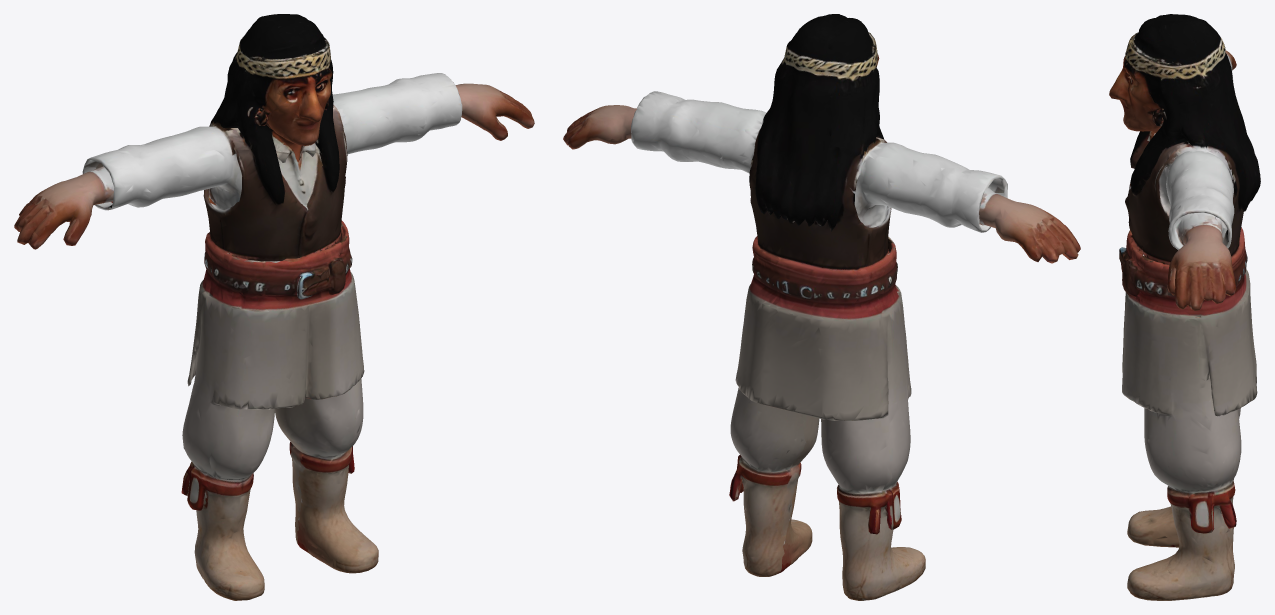
The model's file is painefil.glb.
3 renders of one model, left to right at view 1: azimuth 30°, elevation 25°; view 2: azimuth 150°, elevation 25°; view 3: azimuth 270°, elevation 25°, orthographic.
Visible parts, largest first — view 1: painefil; view 2: painefil; view 3: painefil.
Boxes of the visible parts, x1,y1,x2,y2 form: painefil: (14, 14, 534, 600); painefil: (563, 14, 1080, 600); painefil: (1109, 14, 1260, 600).
Bounding box in the file's own units: 1.7 × 1.74 × 0.4381.
Materials: 1 (1 with a texture image).
